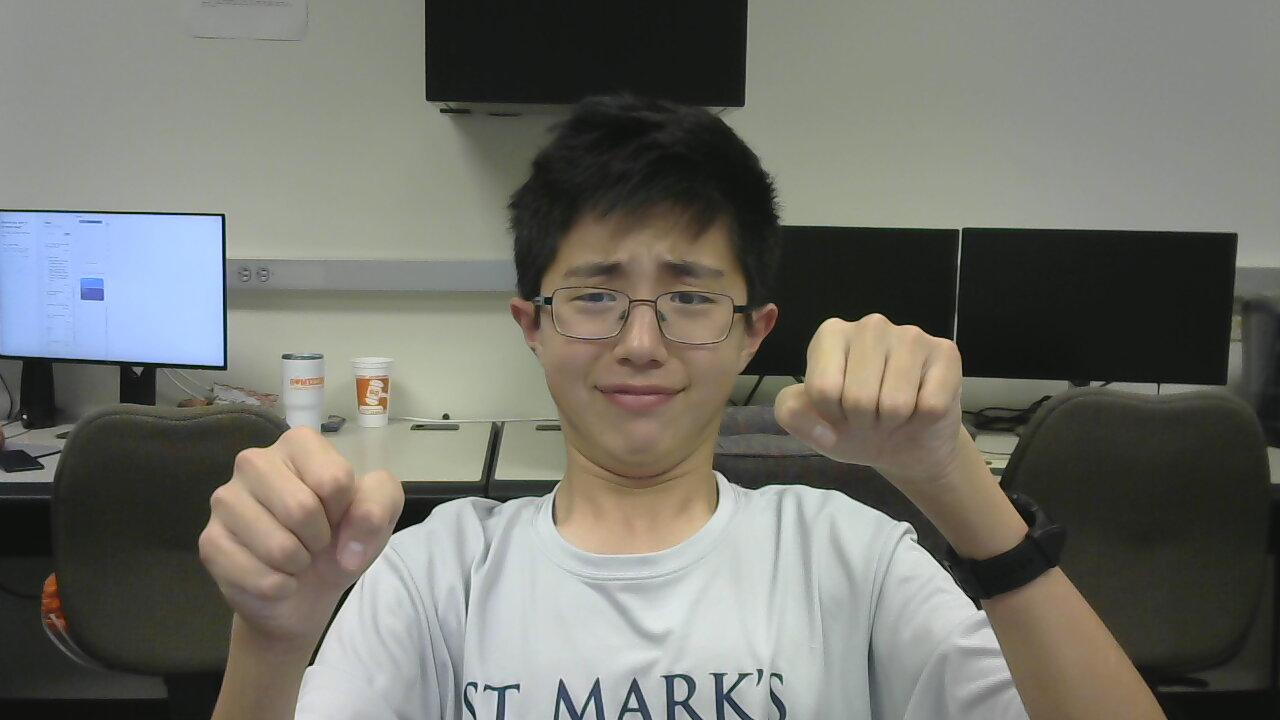fist: (196, 414, 407, 656), (778, 309, 984, 486)
